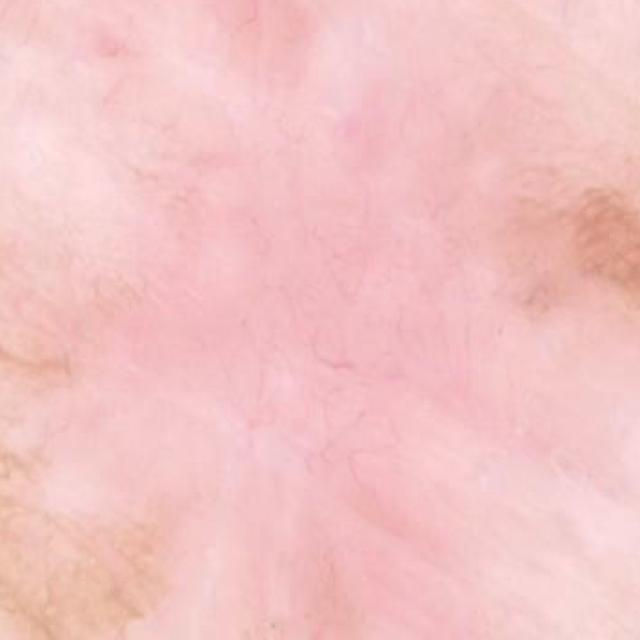BCC: (0, 105, 162, 640), (514, 22, 640, 475)
